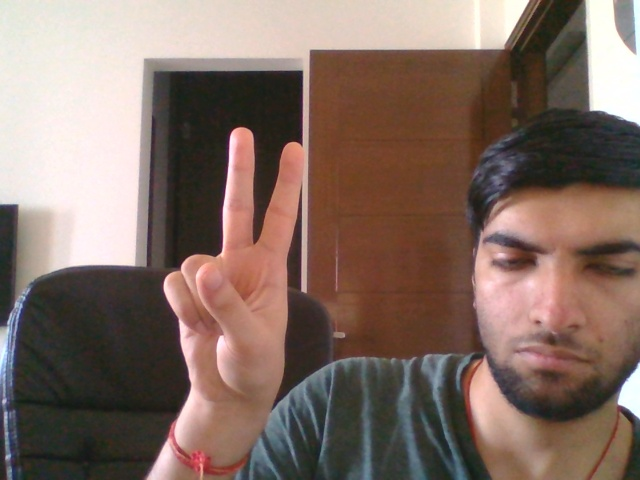LetterV: (163, 123, 304, 411)
